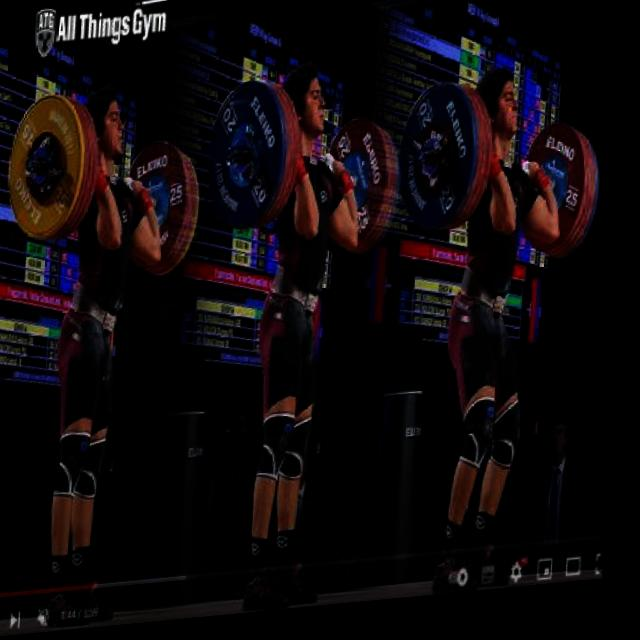barbell: (203, 76, 295, 242), (395, 83, 486, 247), (5, 91, 91, 246)
